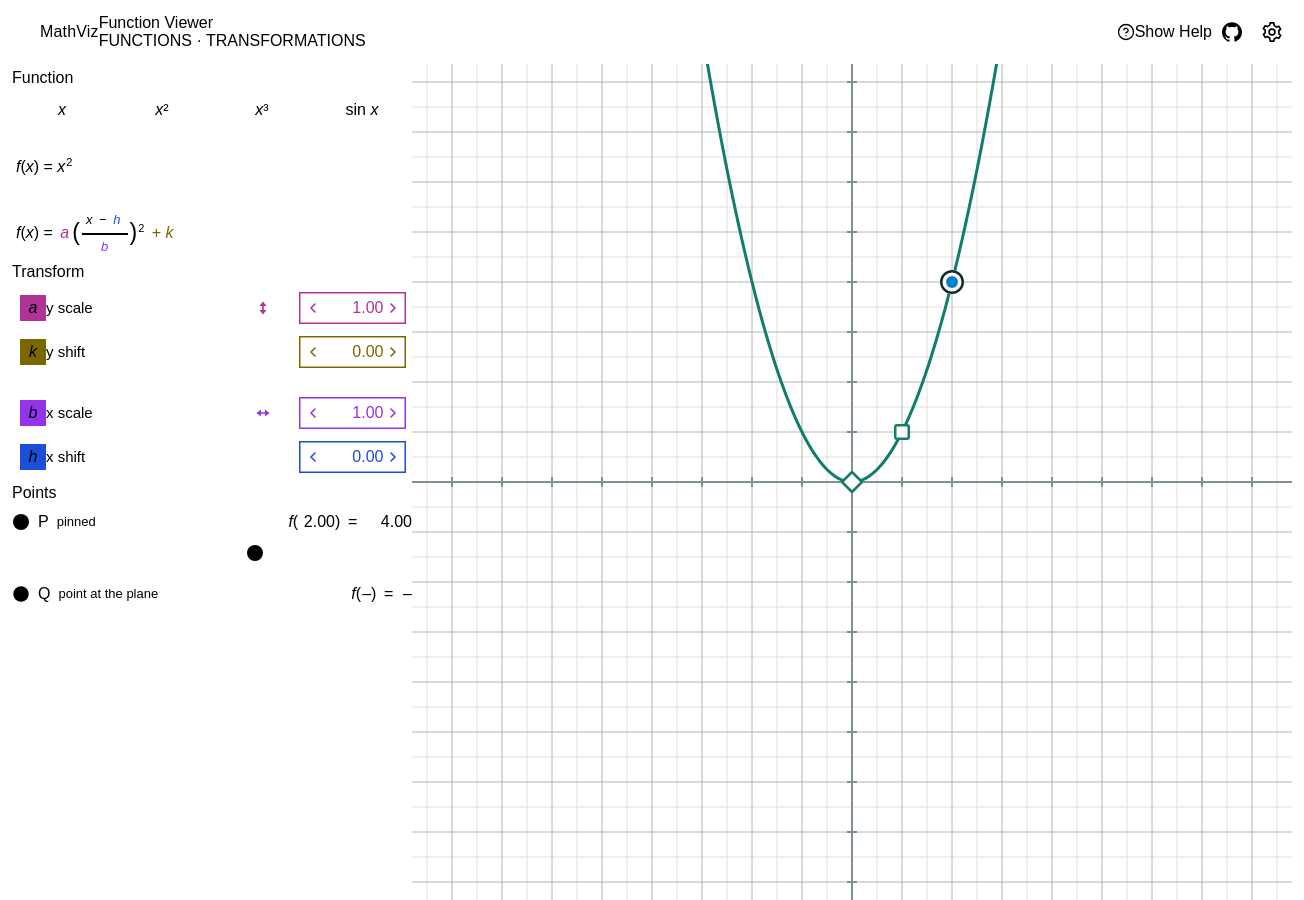
it: the Show Help button › hides the Function tip at a press or a key anywhere else
Click the button "Show Help" at [1164, 32], box [1117, 12, 1212, 52]
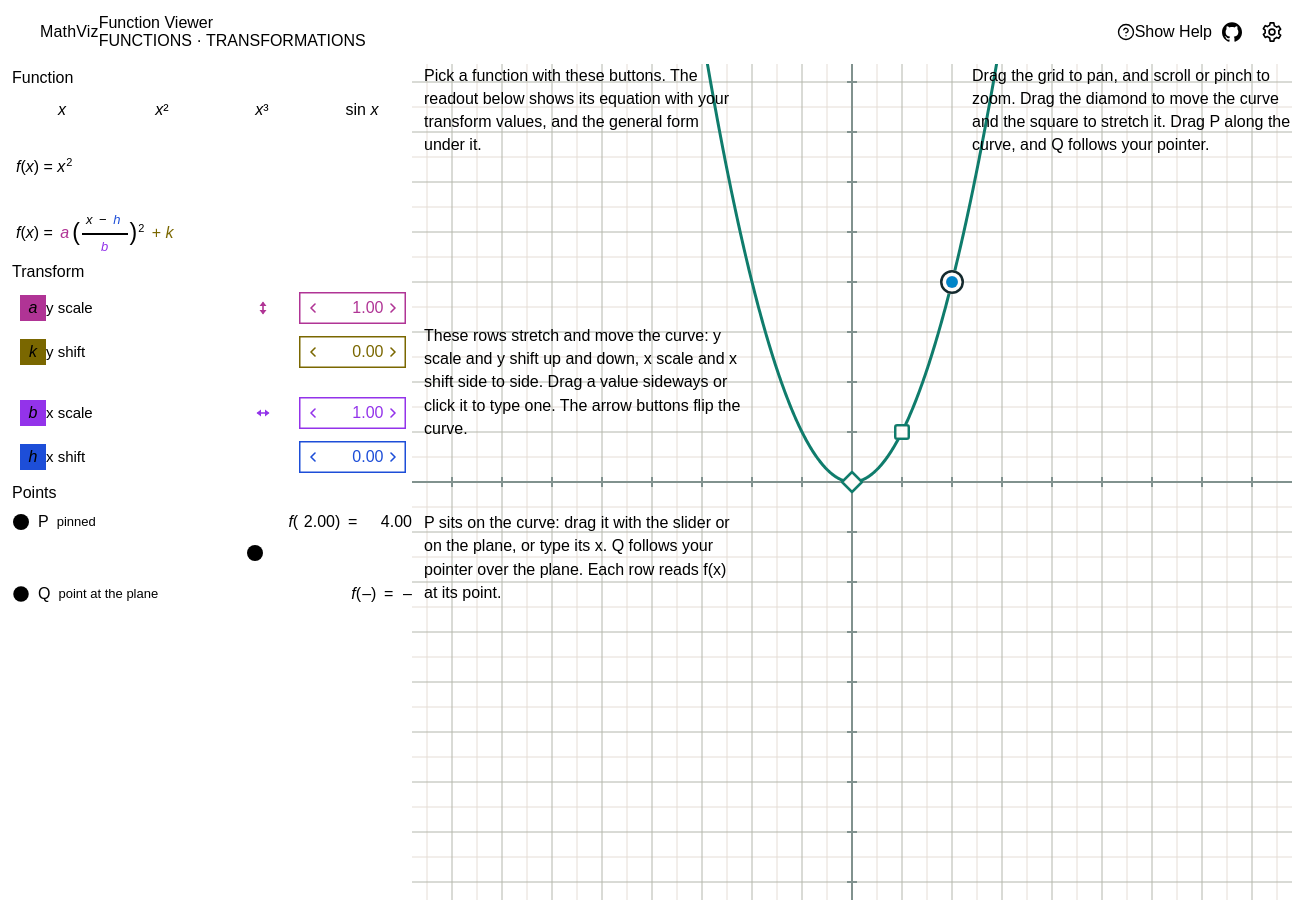
expect the text "Pick a function" is shown: met, box [424, 67, 729, 153]
Press the mouse on the field labelled "y scale" at [352, 308], box [322, 296, 384, 318]
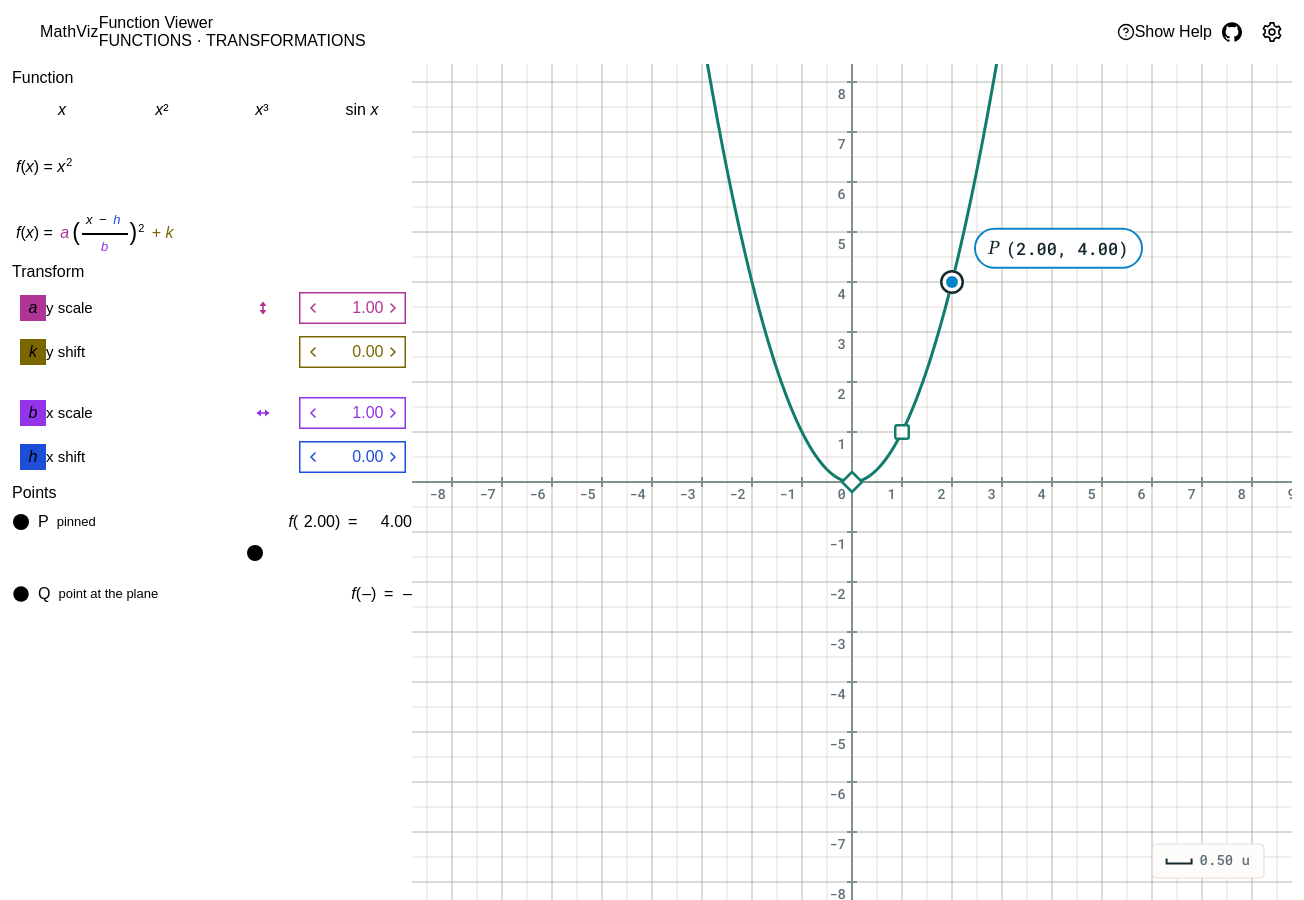
expect the text "Pick a function" is gone: met
Click the button "Show Help" at [1164, 32], box [1117, 12, 1212, 52]
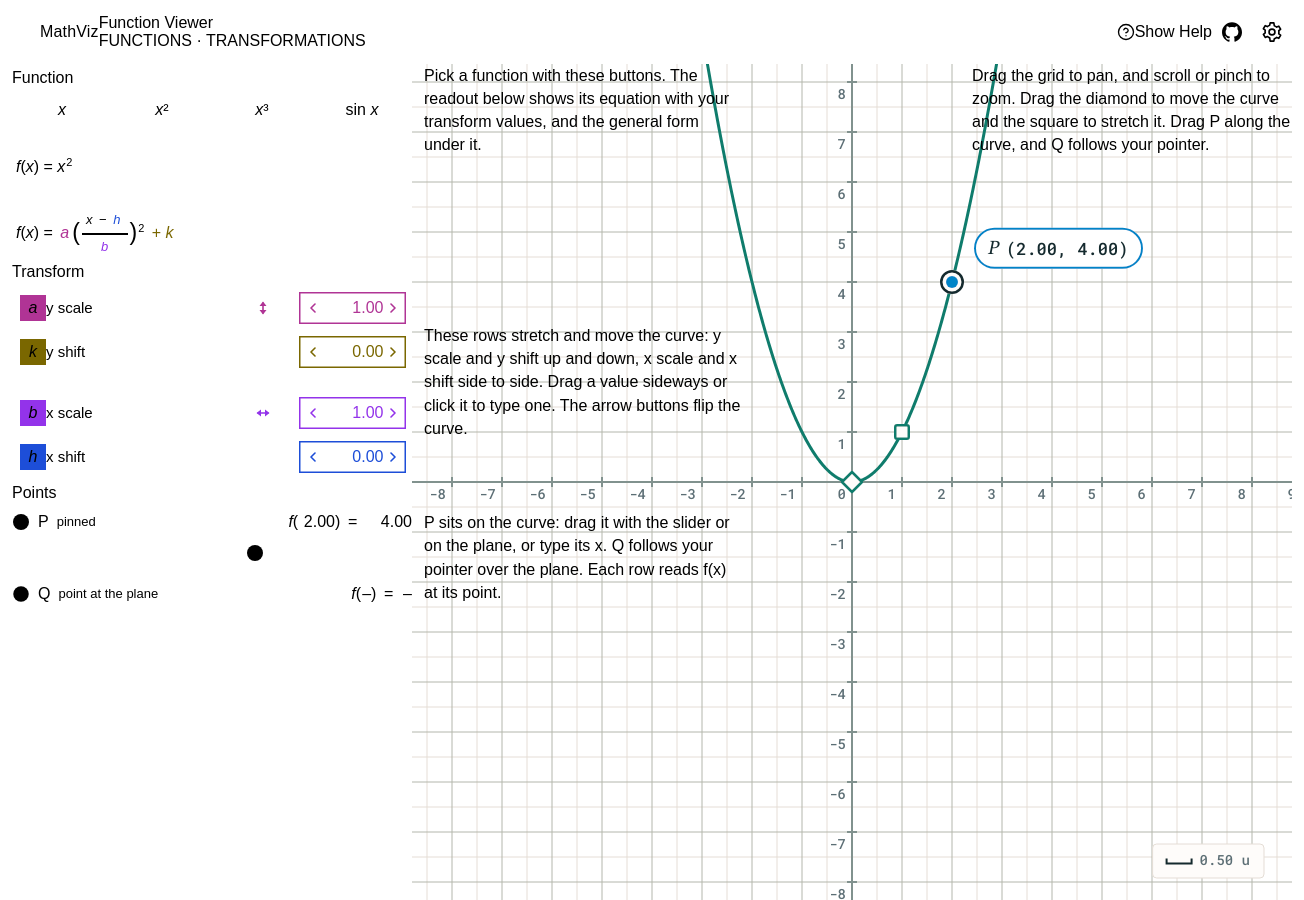
expect the text "Pick a function" is shown: met, box [424, 67, 729, 153]
Press ArrowUp in the field labelled "y scale", box [322, 296, 384, 318]
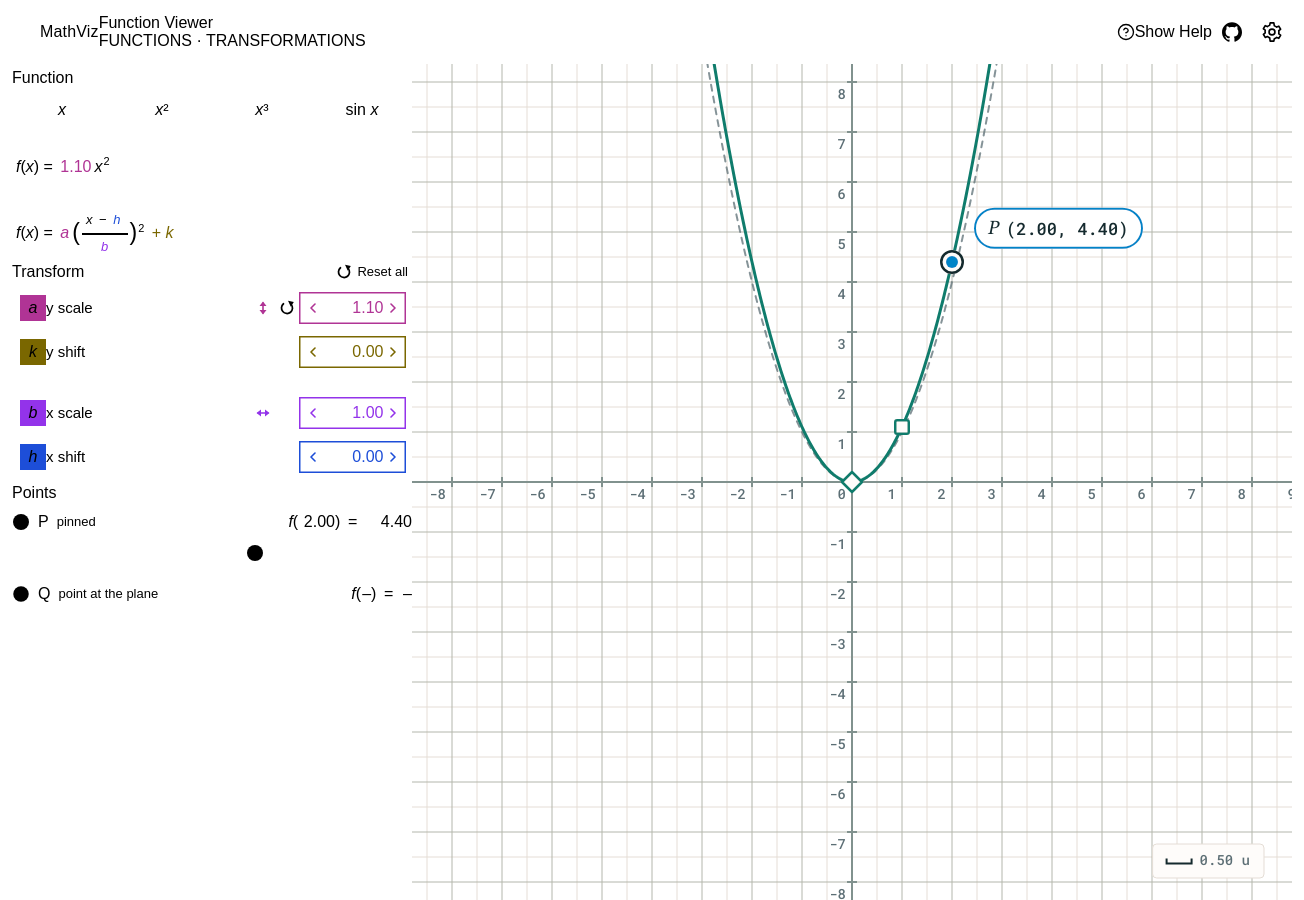
expect the text "Pick a function" is gone: met
